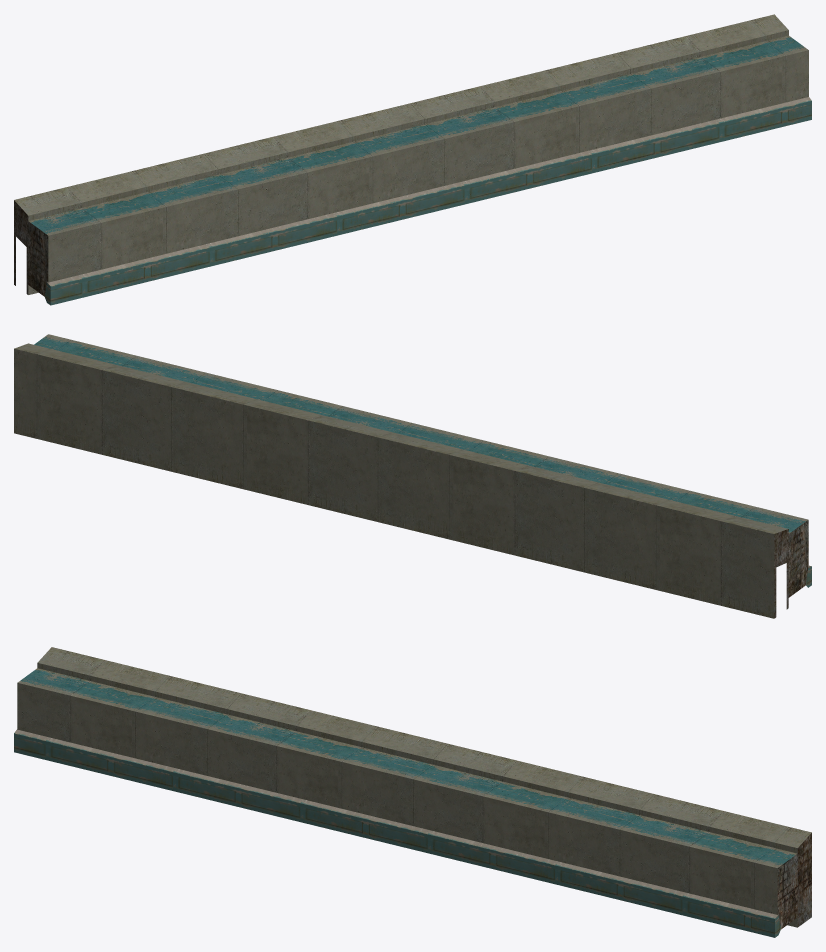
Rendered from Prop_Luji01.glb.
3 renders of one model, top to bottom at view 1: azimuth 30°, elevation 25°; view 2: azimuth 150°, elevation 25°; view 3: azimuth 330°, elevation 25°, orthographic.
Parts seen in each view (by area): view 1: xiutz_luji_01; view 2: xiutz_luji_01; view 3: xiutz_luji_01.
Part boxes in pixels (x1,y1,x2,y2): xiutz_luji_01: (14,14,811,305); xiutz_luji_01: (14,334,811,618); xiutz_luji_01: (14,647,811,937).
Size of the model in its own units: 87.59 by 9.32 by 7.42.
1 material, 1 textured.
